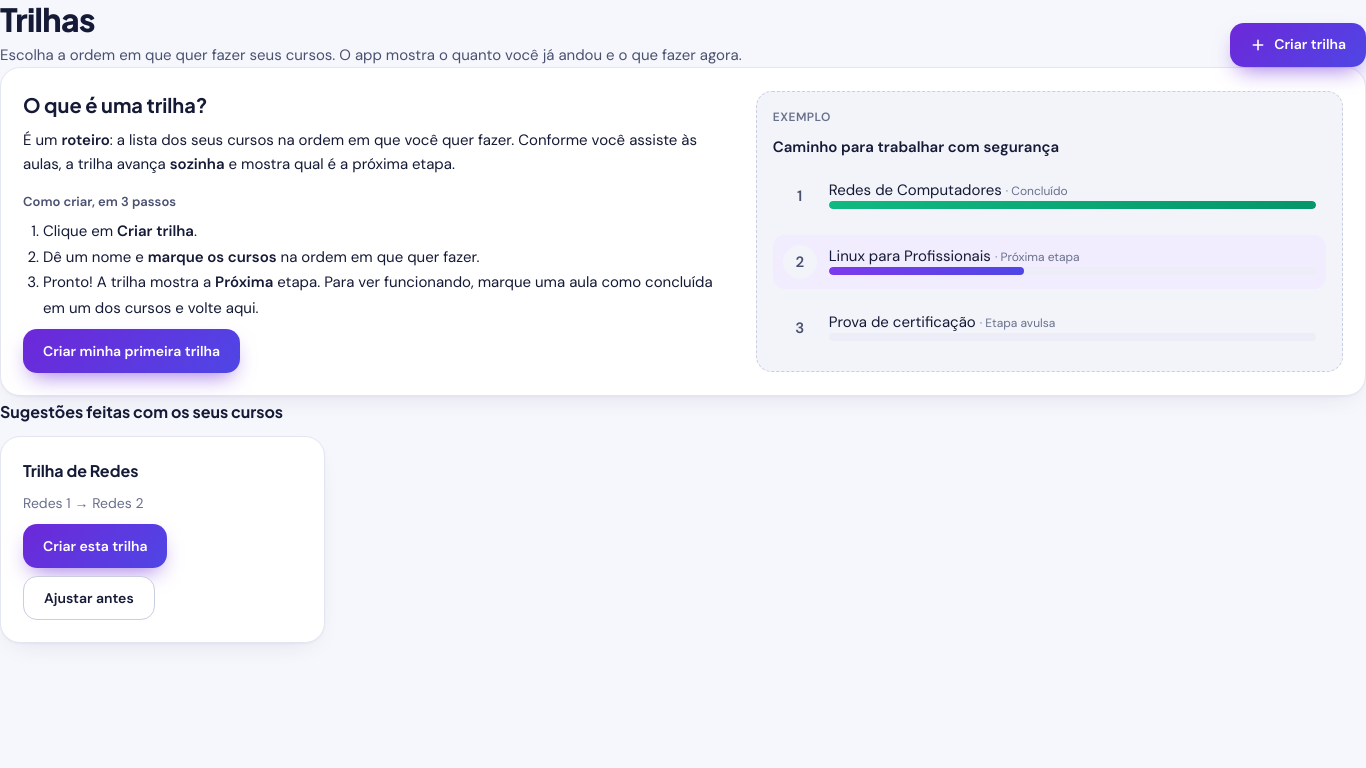
Test: Trilhas · assistente de criação › explica em palavras simples e mostra os cursos para marcar
Click the button "Criar trilha" at (1298, 45), box [1230, 23, 1365, 67]
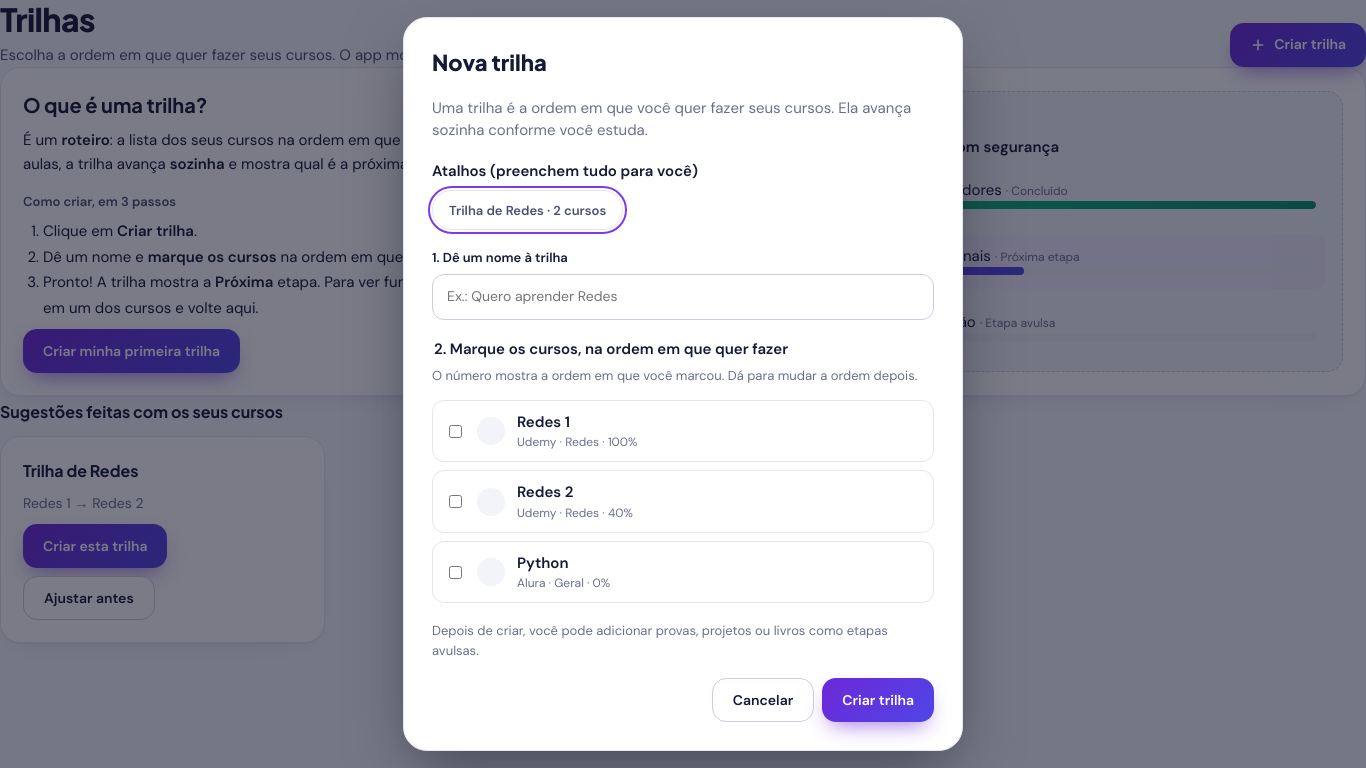
Check: the dialog shows "Uma trilha é a ordem em que você quer fazer seus cursos", box [432, 98, 911, 140]
Check: the text "Marque os cursos, na ordem em que quer fazer" is shown, box [446, 339, 788, 359]
